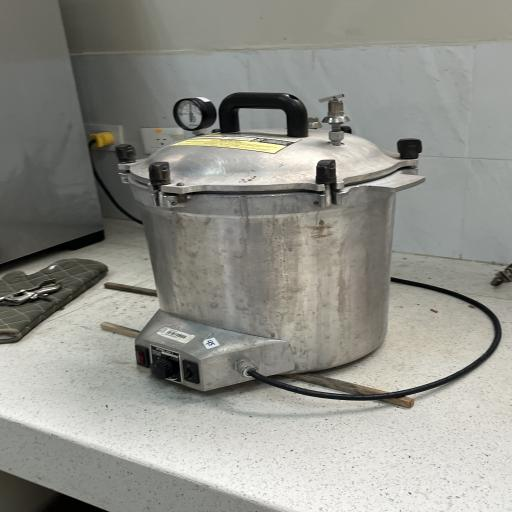Autoclave: (108, 84, 438, 402)
